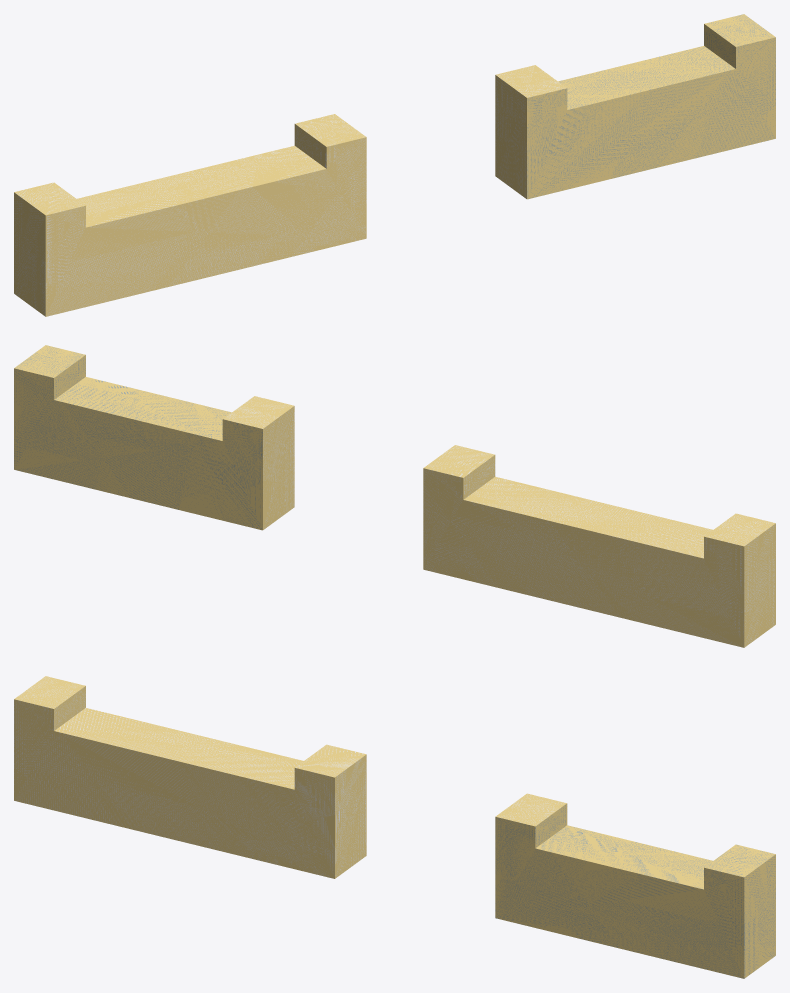
Rendered from pared 4.fbx.
3 views of the same model, one above another, from view 1: azimuth 30°, elevation 25°; view 2: azimuth 150°, elevation 25°; view 3: azimuth 330°, elevation 25° (orthographic).
Parts seen in each view (by area): view 1: Model; view 2: Model; view 3: Model.
Part boxes in pixels (bbox=[...]): Model: bbox=[14, 14, 775, 316]; Model: bbox=[14, 345, 775, 647]; Model: bbox=[14, 676, 775, 978].
Size of the model in its own units: 29.6 by 3.93 by 2.23.
